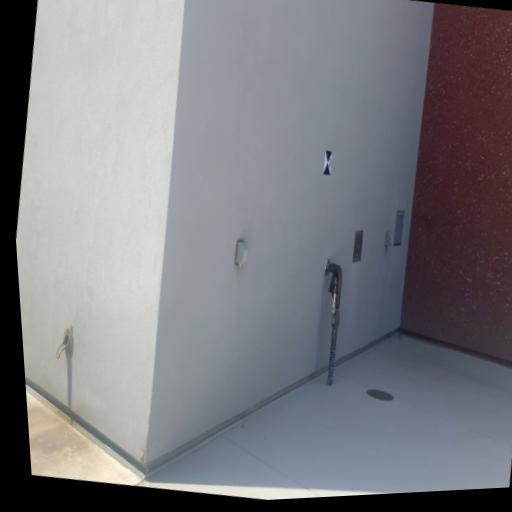target3: (322, 148, 332, 177)
